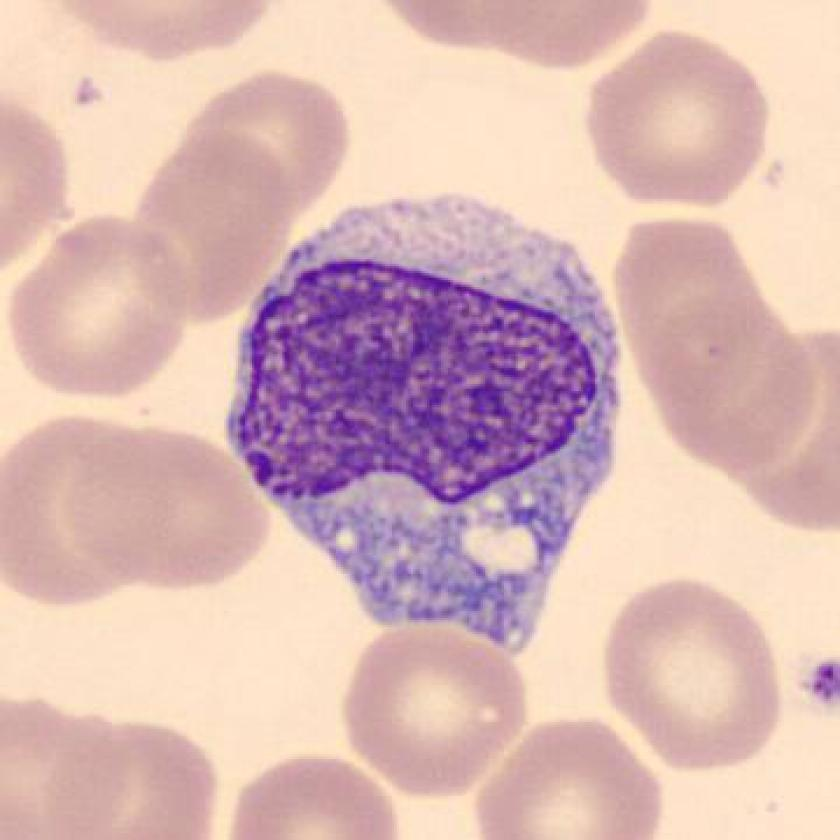monocyte: (211, 177, 645, 667)
